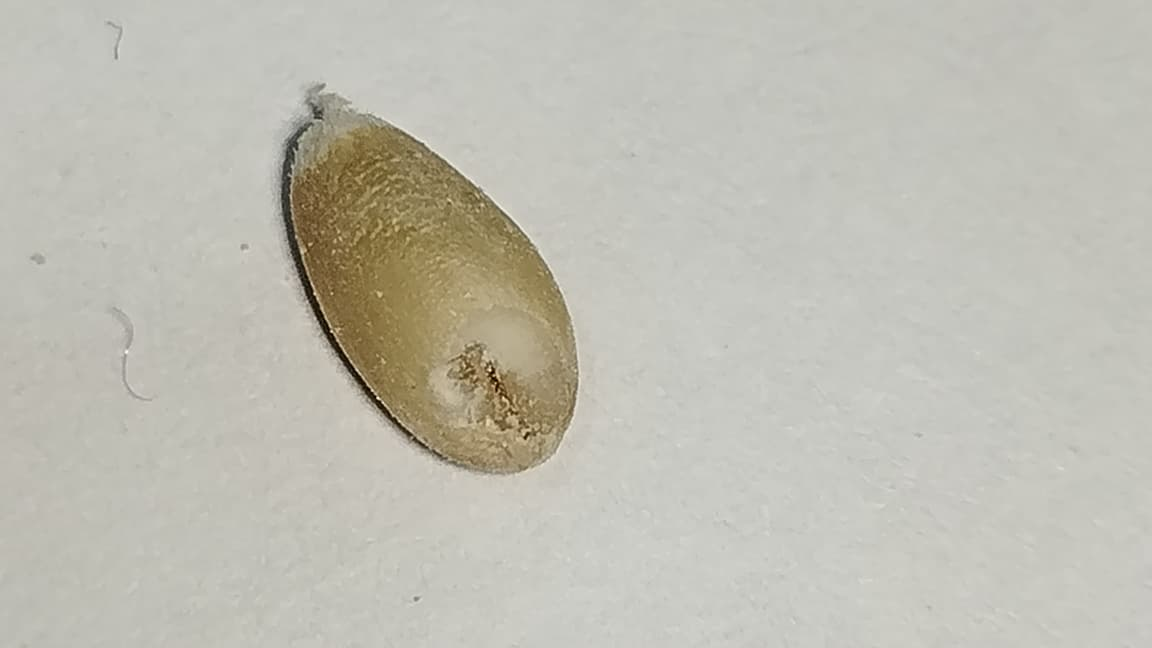damage: (286, 93, 580, 472)
insectdamage: (427, 308, 569, 458)
